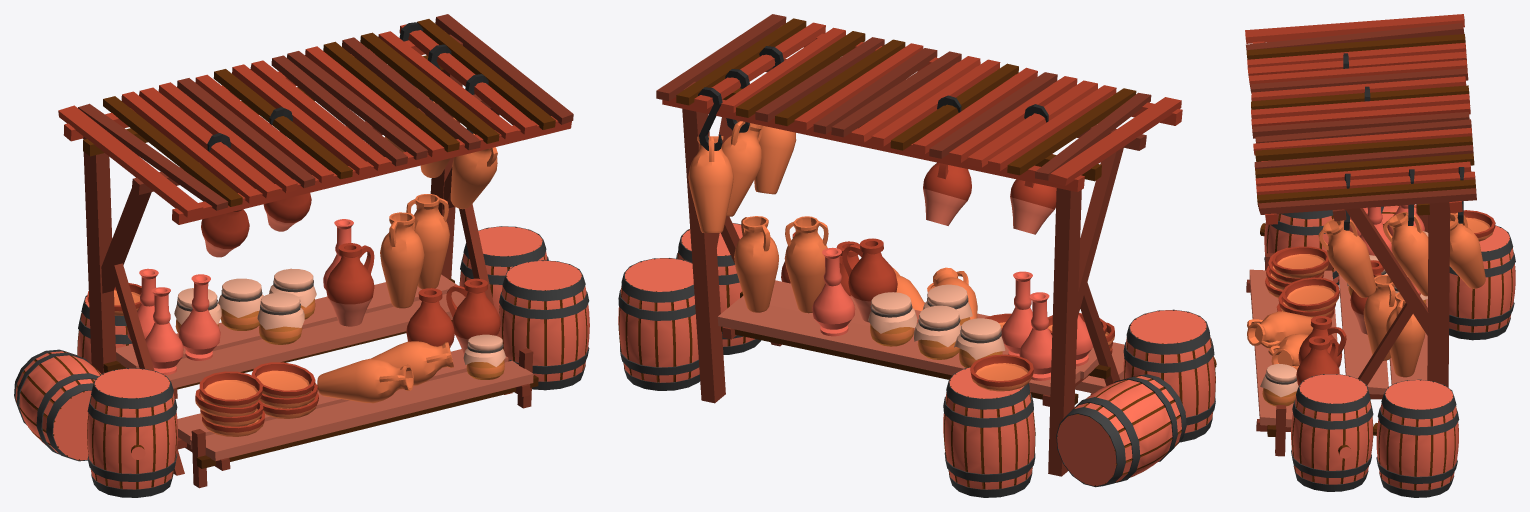
Rendered from ceramica.obj.
3 views of the same model, side by side, from view 1: azimuth 30°, elevation 25°; view 2: azimuth 150°, elevation 25°; view 3: azimuth 270°, elevation 25° (orthographic). The views are drawn at different scales.
Parts seen in each view (by area): view 1: Cylinder.054; view 2: Cylinder.054; view 3: Cylinder.054.
Part boxes in pixels (x1,y1,x2,y2): Cylinder.054: (14,14,589,497); Cylinder.054: (618,14,1216,497); Cylinder.054: (1245,14,1515,497).
Bounding box in the file's own units: 2.54 × 1.46 × 1.26.
Materials: 1 (1 with a texture image).
